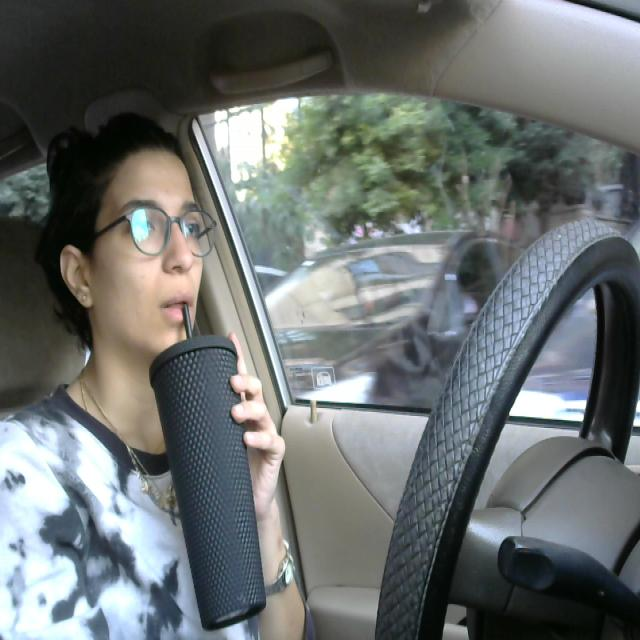drinking: (144, 295, 269, 632)
